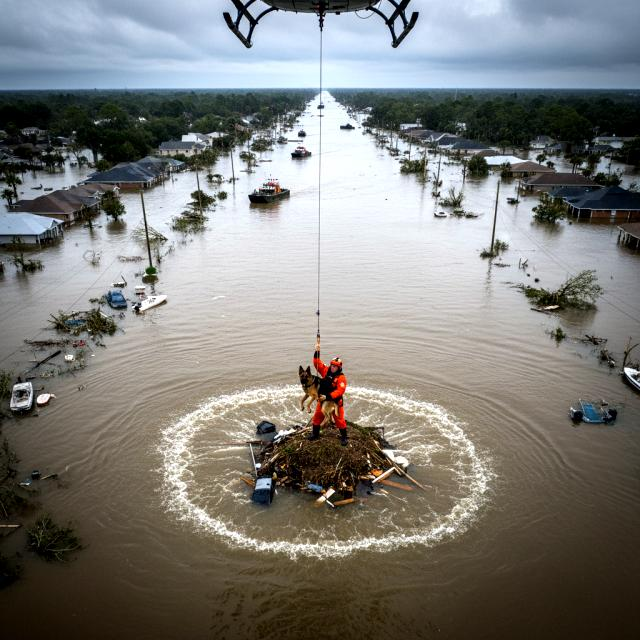dog: (296, 362, 344, 431)
rescuer: (307, 344, 353, 444)
